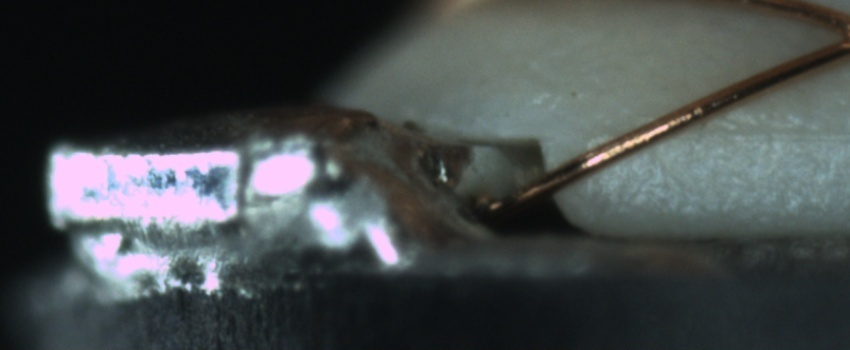CL: (815, 10, 846, 60)
DL: (682, 101, 849, 165)
